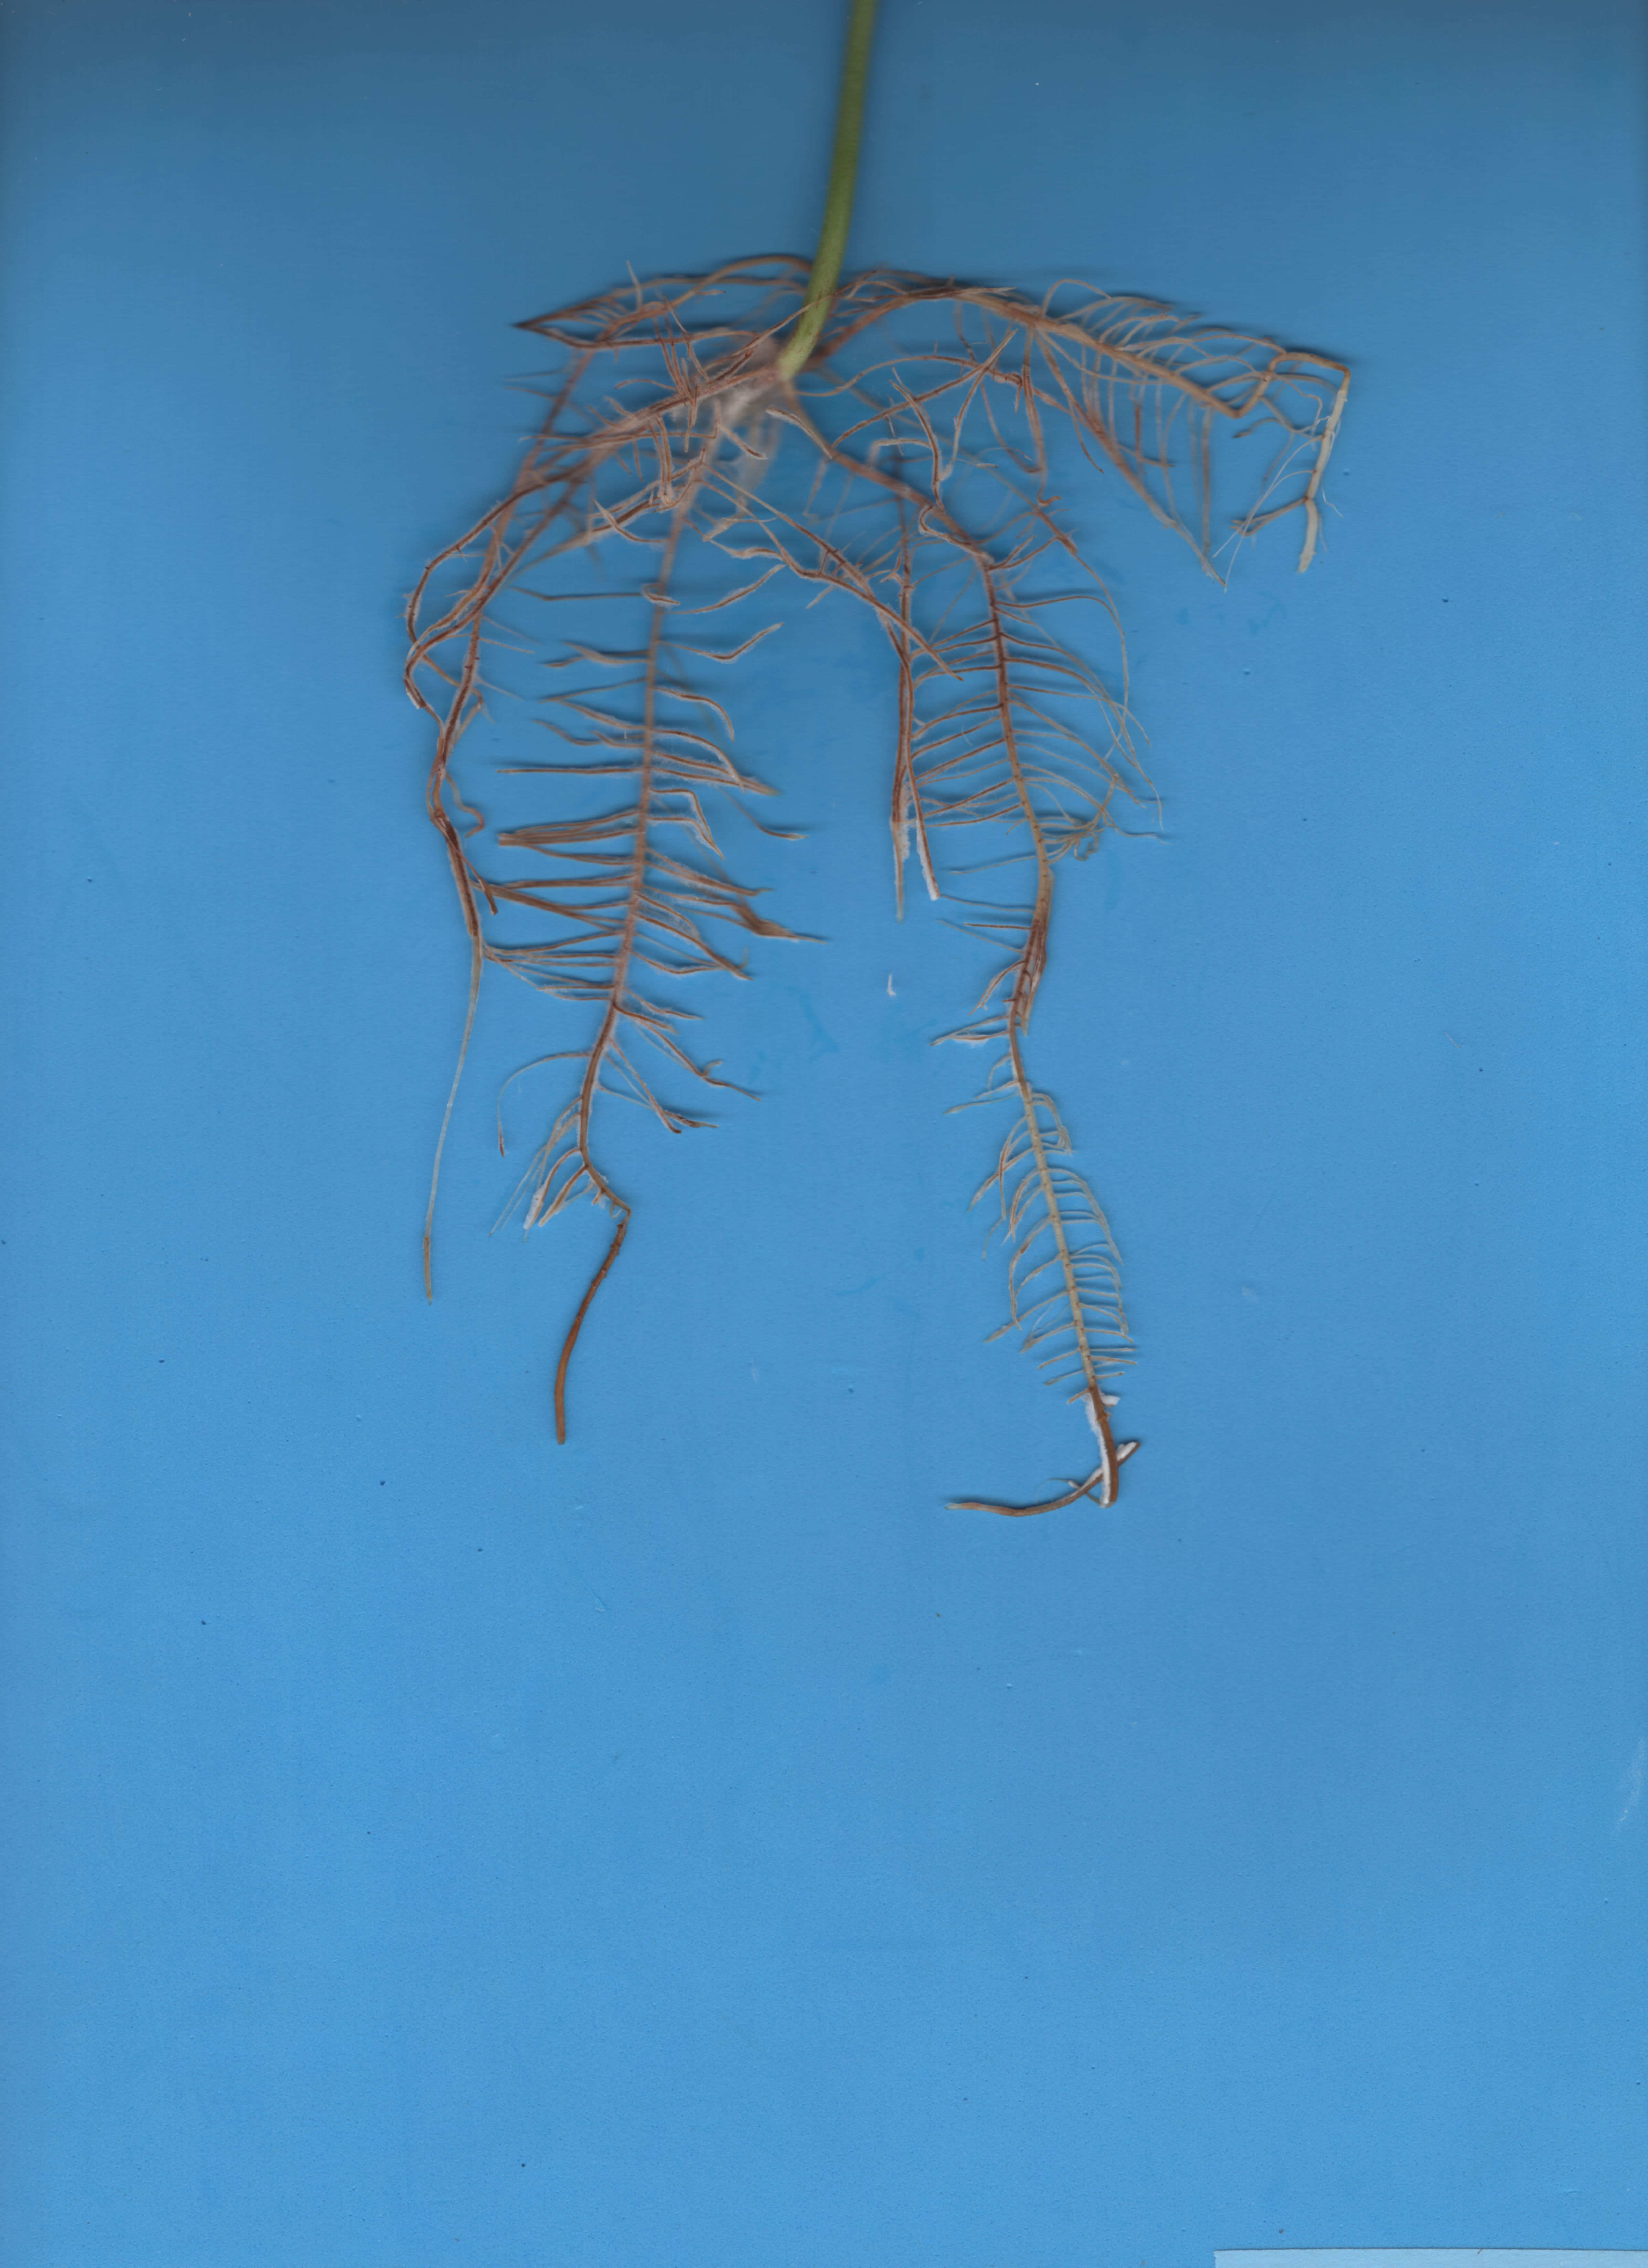CROWNGOOD: (789, 0, 926, 361)
ROOTDISEASE: (280, 245, 1419, 1557)
